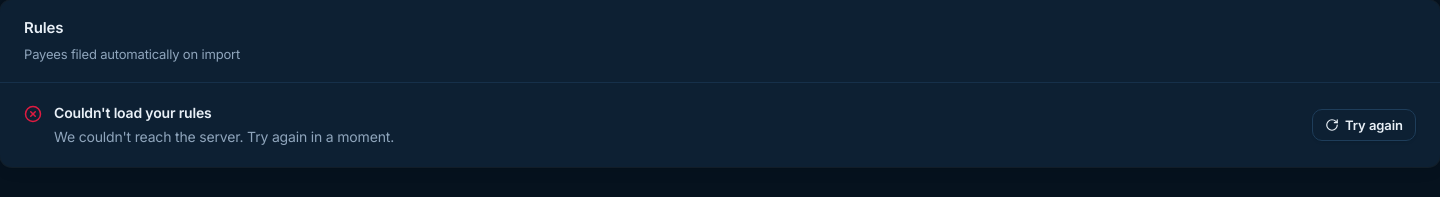
CategoryRulesSection when the rules fail to load › says so with Try again, which loads them
Expected: the message shows "Couldn't load your rules", left=54, top=104, right=212, bottom=121
Click the button "Try again" at (1364, 125), box left=1312, top=109, right=1416, bottom=141
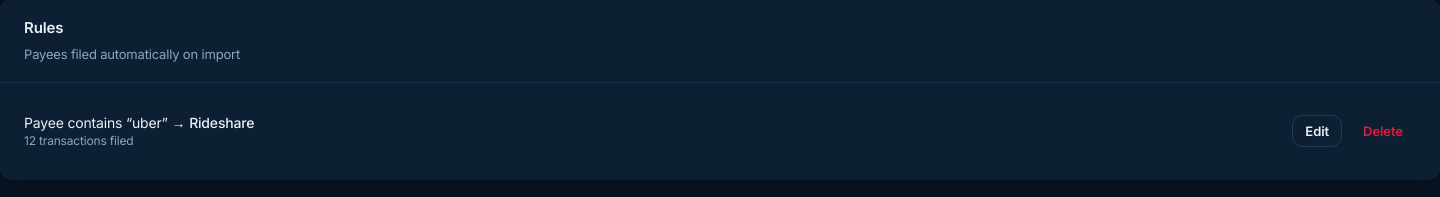
Expected: the text "Payee contains “uber” → Rideshare" is shown, left=24, top=113, right=254, bottom=133
Expected: the message is gone
